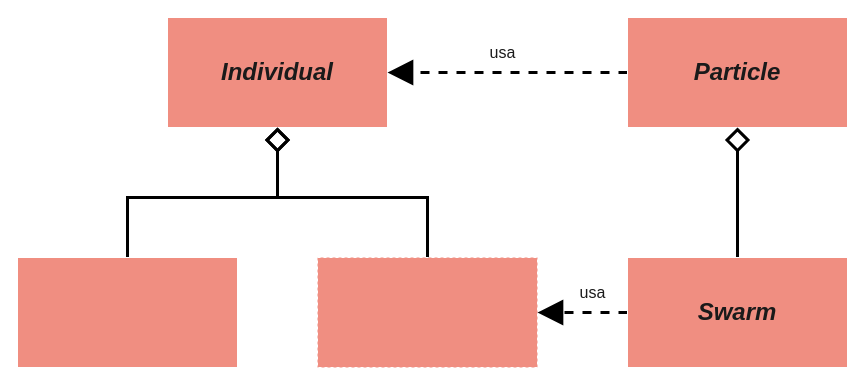
The diagram is 865 pixels wide and 385 high, and some of its shapes have lost their labels. Here are the shapes that lost their labels. From the top down, the box of each, then its label:
(16, 256, 238, 368): Reef
(316, 256, 538, 368): Population
